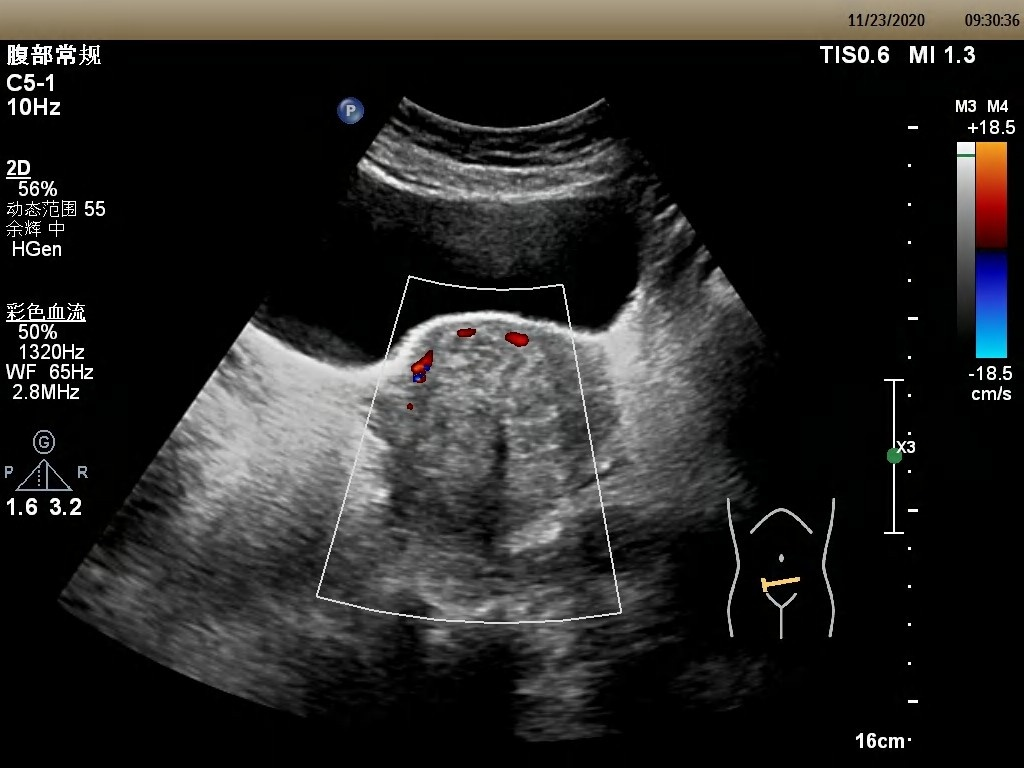肌瘤: (368, 319, 617, 546)
